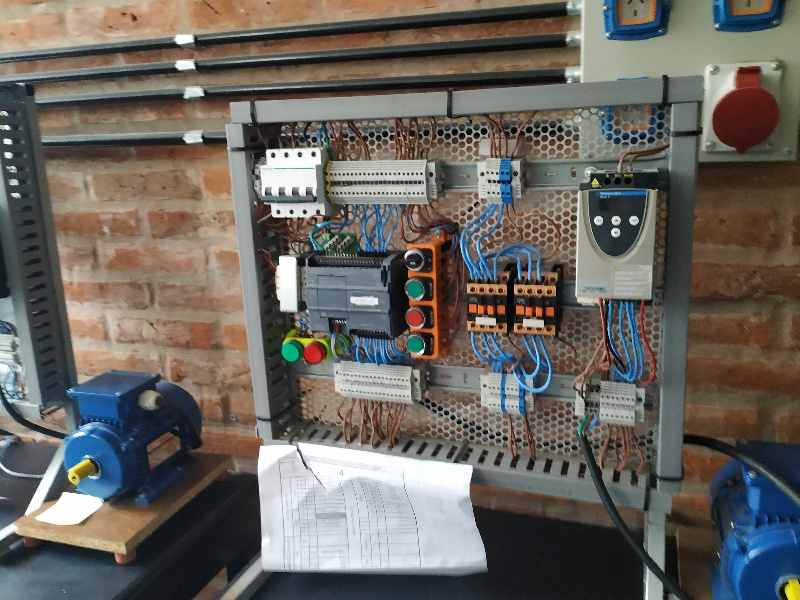Tablero 4: (235, 114, 677, 498)
